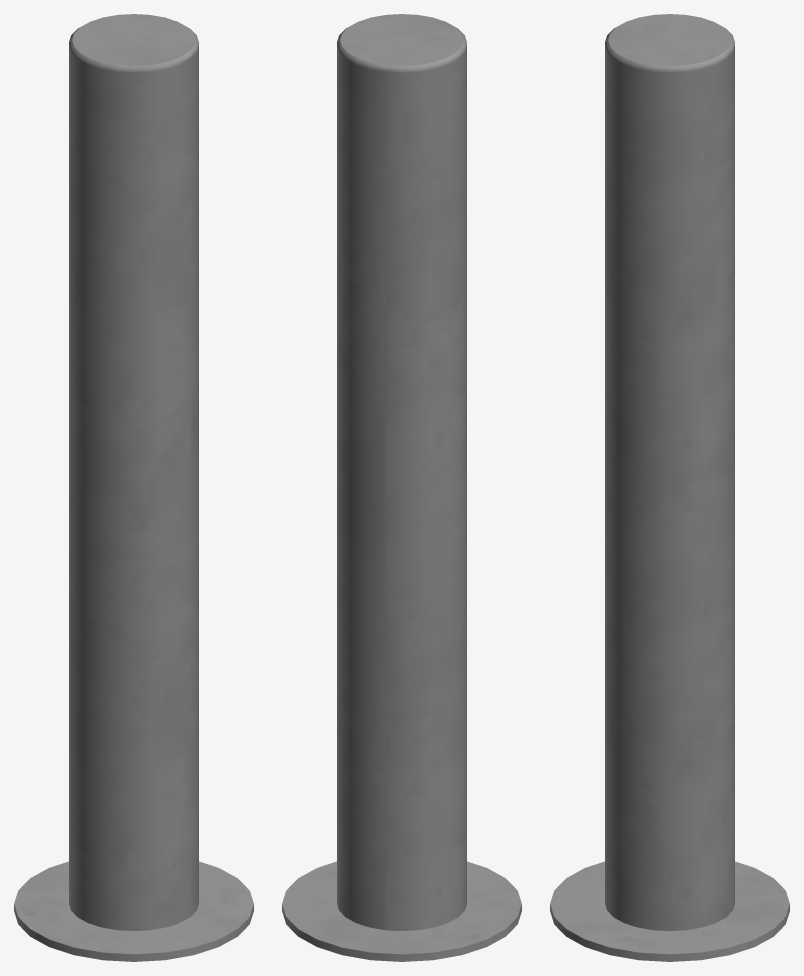
File: bollard-steel.glb
The picture shows the model from 3 angles, left to right: view 1: azimuth 30°, elevation 25°; view 2: azimuth 150°, elevation 25°; view 3: azimuth 270°, elevation 25°; orthographic projection.
Parts seen in each view (by area): view 1: Flat_head_bollard; view 2: Flat_head_bollard; view 3: Flat_head_bollard.
Boxes of the visible parts, x1=… form: Flat_head_bollard: x1=14, y1=14, x2=253, y2=961; Flat_head_bollard: x1=282, y1=14, x2=521, y2=961; Flat_head_bollard: x1=550, y1=14, x2=789, y2=961.
Bounding box in the file's own units: 0.2495 × 1 × 0.2495.
Materials: 1 (1 with a texture image).
